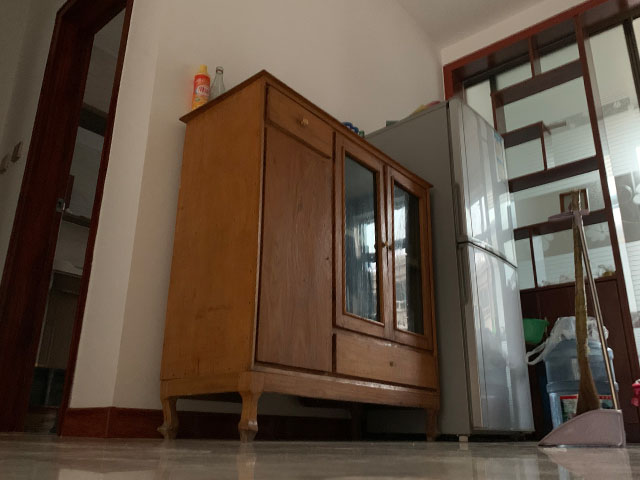cabinet: (156, 68, 444, 444)
